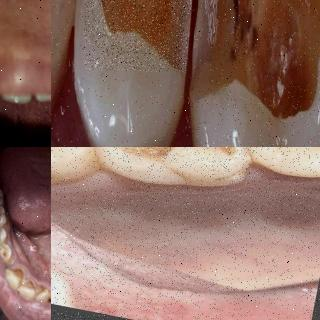calculus: (14, 263, 27, 283), (27, 276, 39, 290), (36, 279, 46, 294)
cavities: (199, 0, 320, 122), (77, 0, 188, 68), (104, 147, 248, 190)
maligned: (34, 281, 50, 305)
stains: (22, 280, 40, 298), (8, 262, 24, 282), (1, 244, 15, 264), (0, 225, 12, 247), (0, 205, 10, 231), (38, 283, 50, 299), (0, 189, 6, 212)
